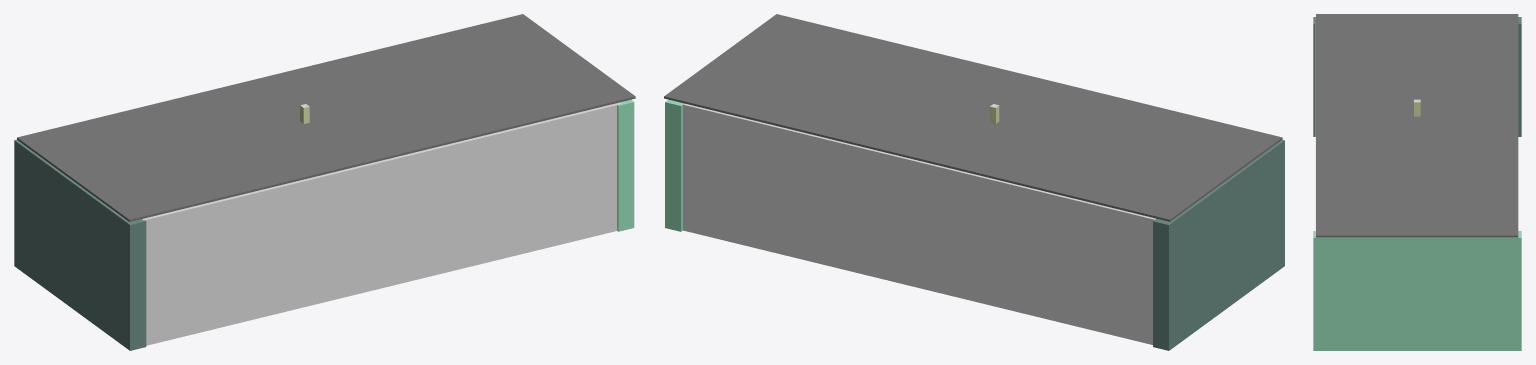
The model's file is Pasillo escolar.fbx.
3 views of the same model, side by side, from view 1: azimuth 30°, elevation 25°; view 2: azimuth 150°, elevation 25°; view 3: azimuth 270°, elevation 25° (orthographic). The views are drawn at different scales.
Parts seen in each view (by area): view 1: Cube.001, Cube.007, Cube.004, Cube.003; view 2: Cube.002, Cube.007, Cube.004, Cube.003; view 3: Cube.007, Cube.003, Cube.004, Cube.001.
Boxes of the visible parts, x1,y1,x2,y2 form: Cube.001: [142, 102, 621, 345]; Cube.007: [17, 14, 635, 221]; Cube.004: [14, 139, 146, 350]; Cube.003: [617, 99, 634, 231]; Cube.002: [683, 103, 1155, 344]; Cube.007: [664, 14, 1282, 221]; Cube.004: [1153, 139, 1284, 350]; Cube.003: [665, 99, 684, 231]; Cube.007: [1316, 14, 1518, 237]; Cube.003: [1313, 231, 1521, 350]; Cube.004: [1313, 17, 1521, 136]; Cube.001: [1315, 24, 1315, 232].
Bounding box in the file's own units: 6208 × 1707 × 2458.
